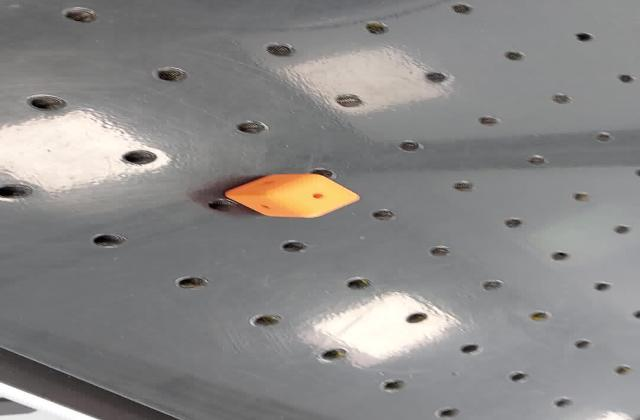cube: (218, 172, 369, 220)
